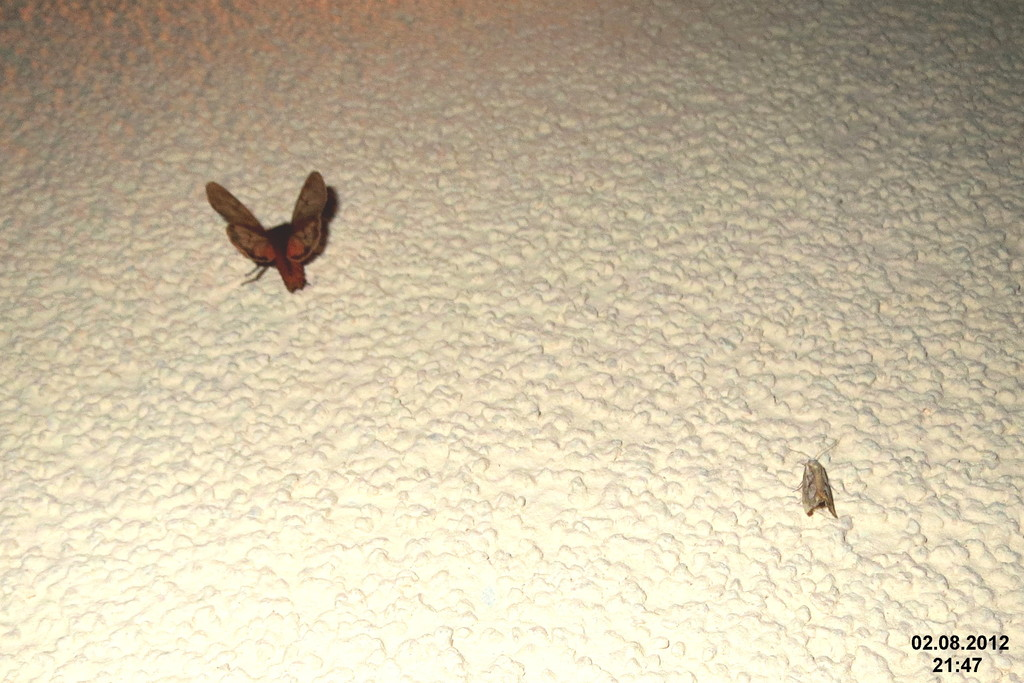Butterfly: (194, 152, 357, 315)
